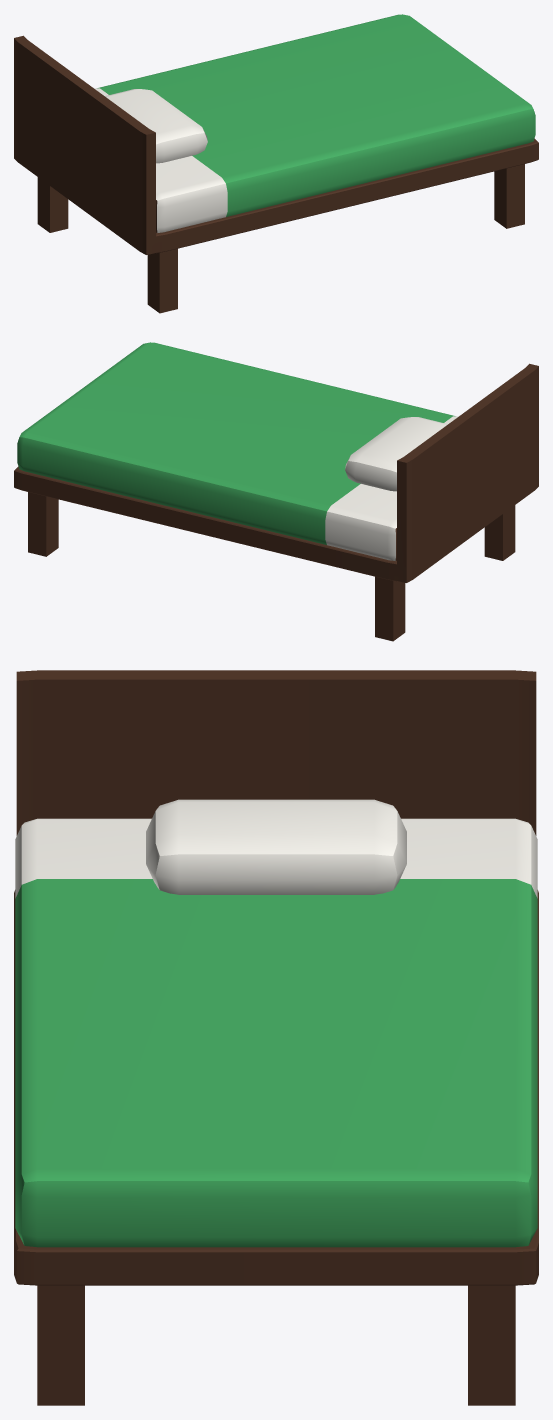
The model's file is Lit.fbx.
3 views of the same model, one above another, from view 1: azimuth 30°, elevation 25°; view 2: azimuth 150°, elevation 25°; view 3: azimuth 270°, elevation 25° (orthographic). The views are drawn at different scales.
Visible parts, largest first — view 1: Bed; view 2: Bed; view 3: Bed.
Boxes of the visible parts, x1=… form: Bed: x1=14, y1=14, x2=538, y2=313; Bed: x1=14, y1=342, x2=538, y2=641; Bed: x1=14, y1=670, x2=538, y2=1405.
Size of the model in its own units: 206 by 92.96 by 121.
